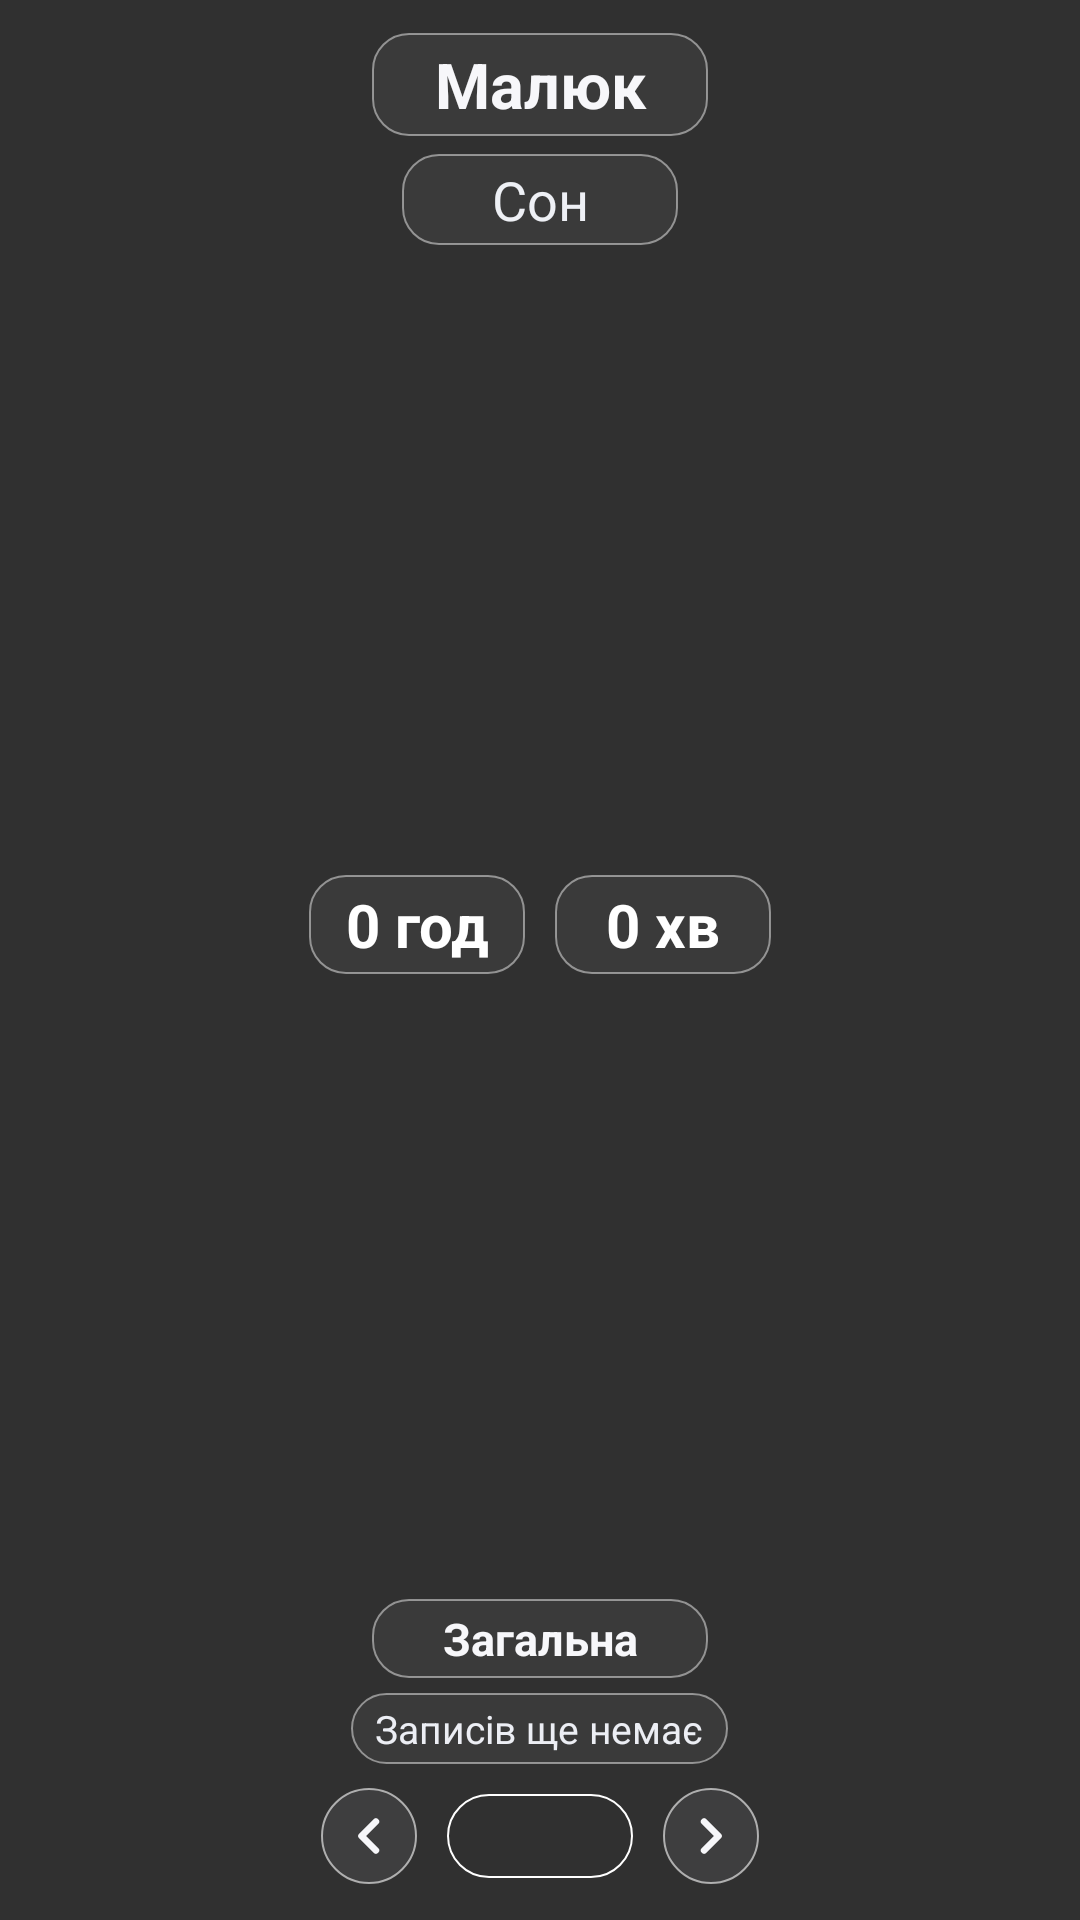

Named icons in this screenshot (1080w x 1920h) and their centers, [x,y]:
Далі: [711,1836]
Назад: [369,1836]
